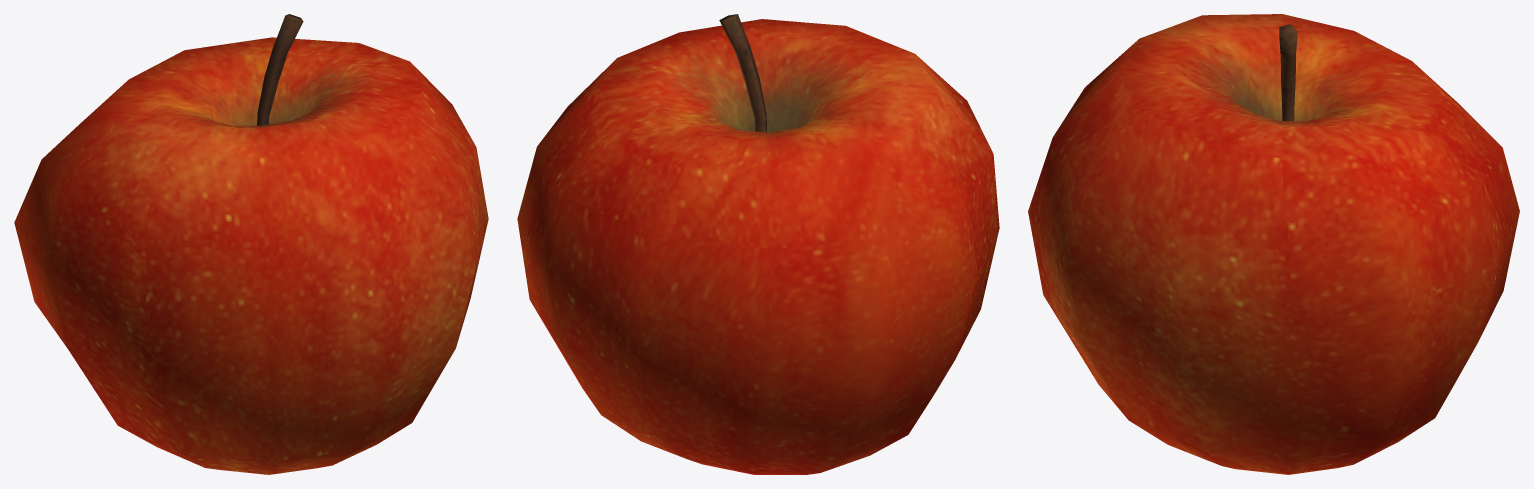
File: Apple.glb
3 views of the same model, side by side, from view 1: azimuth 30°, elevation 25°; view 2: azimuth 150°, elevation 25°; view 3: azimuth 270°, elevation 25° (orthographic). The views are drawn at different scales.
Parts seen in each view (by area): view 1: Apple; view 2: Apple; view 3: Apple.
Part boxes in pixels (x1,y1,x2,y2): Apple: [14, 14, 488, 474]; Apple: [517, 14, 999, 474]; Apple: [1028, 14, 1519, 474].
Bounding box in the file's own units: 0.3287 × 0.3143 × 0.3314.
1 material, 1 textured.
